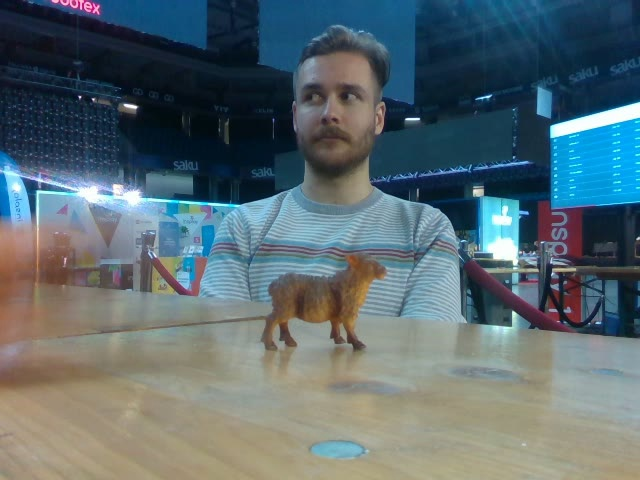toy: (259, 252, 389, 351)
